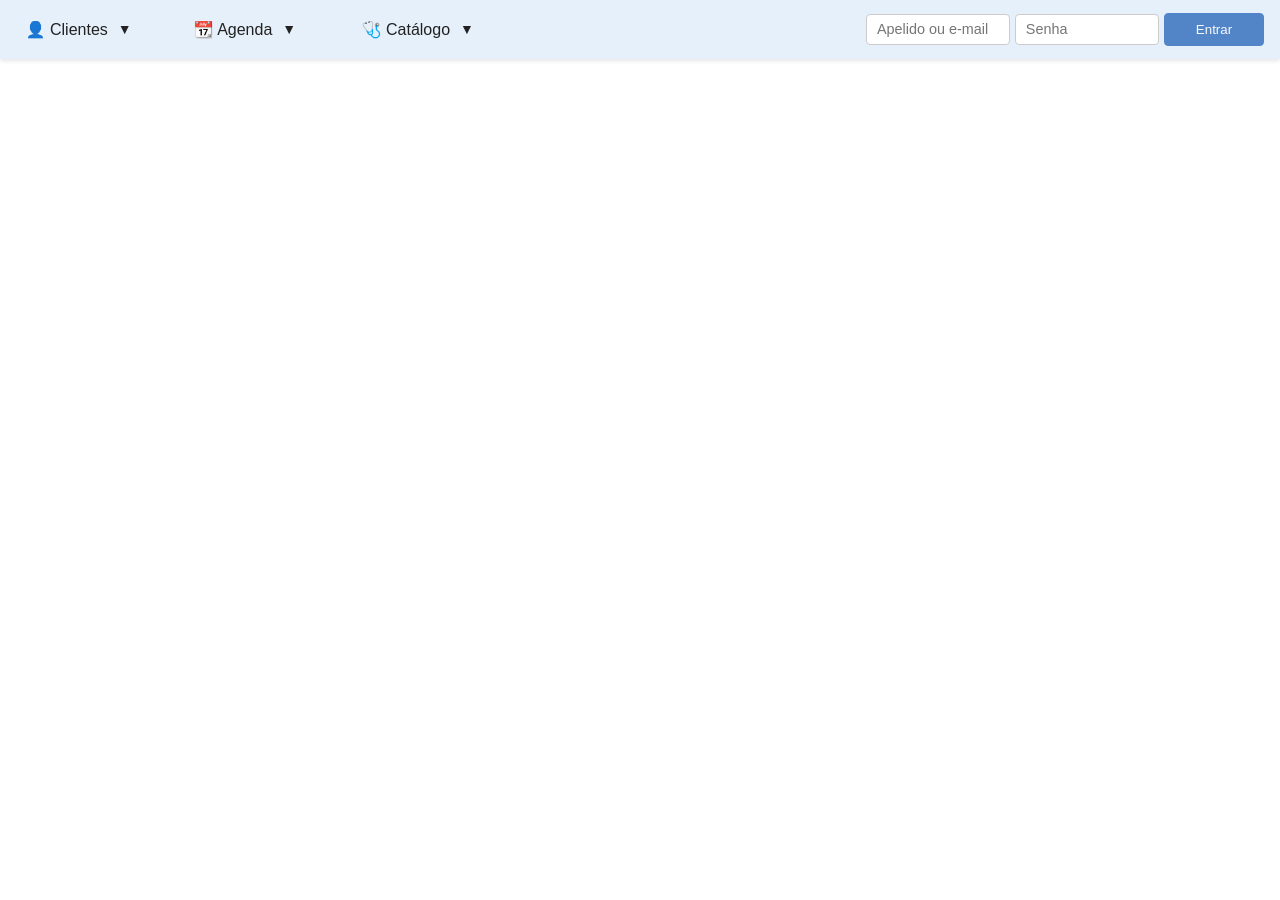
NavBar login code flow › autentica diretamente por apelido ou e-mail
The image size is (1280, 900).
In the field with placeholder "Apelido ou e-mail": point(938, 29) x1=866 y1=14 x2=1010 y2=45, type "pro1@example.com"
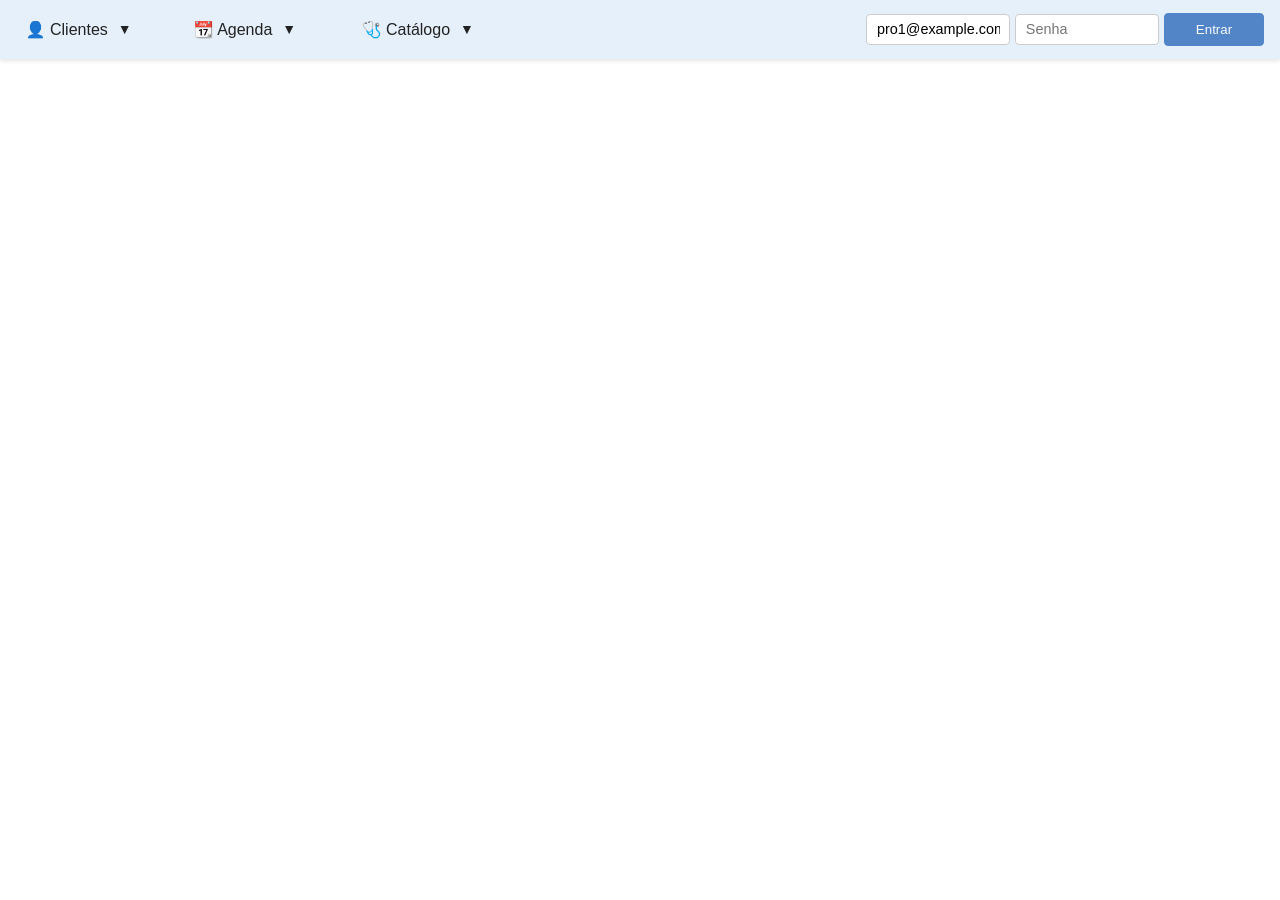
In the password field with placeholder "Senha": point(1087, 29) x1=1015 y1=14 x2=1159 y2=45, type "Senha123"
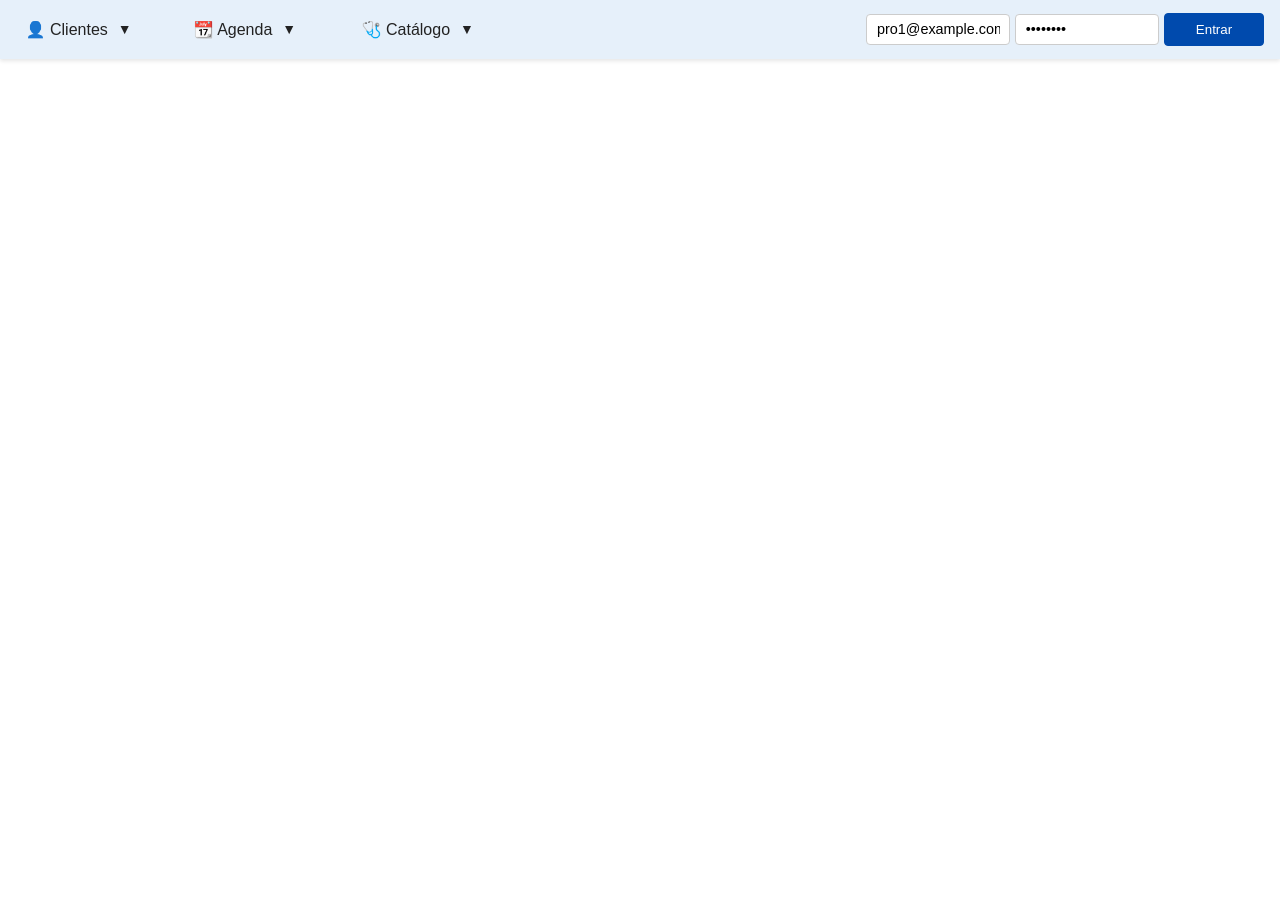
Check: the button "Entrar" is enabled
Click the button "Entrar": point(1214, 29) x1=1164 y1=13 x2=1264 y2=46
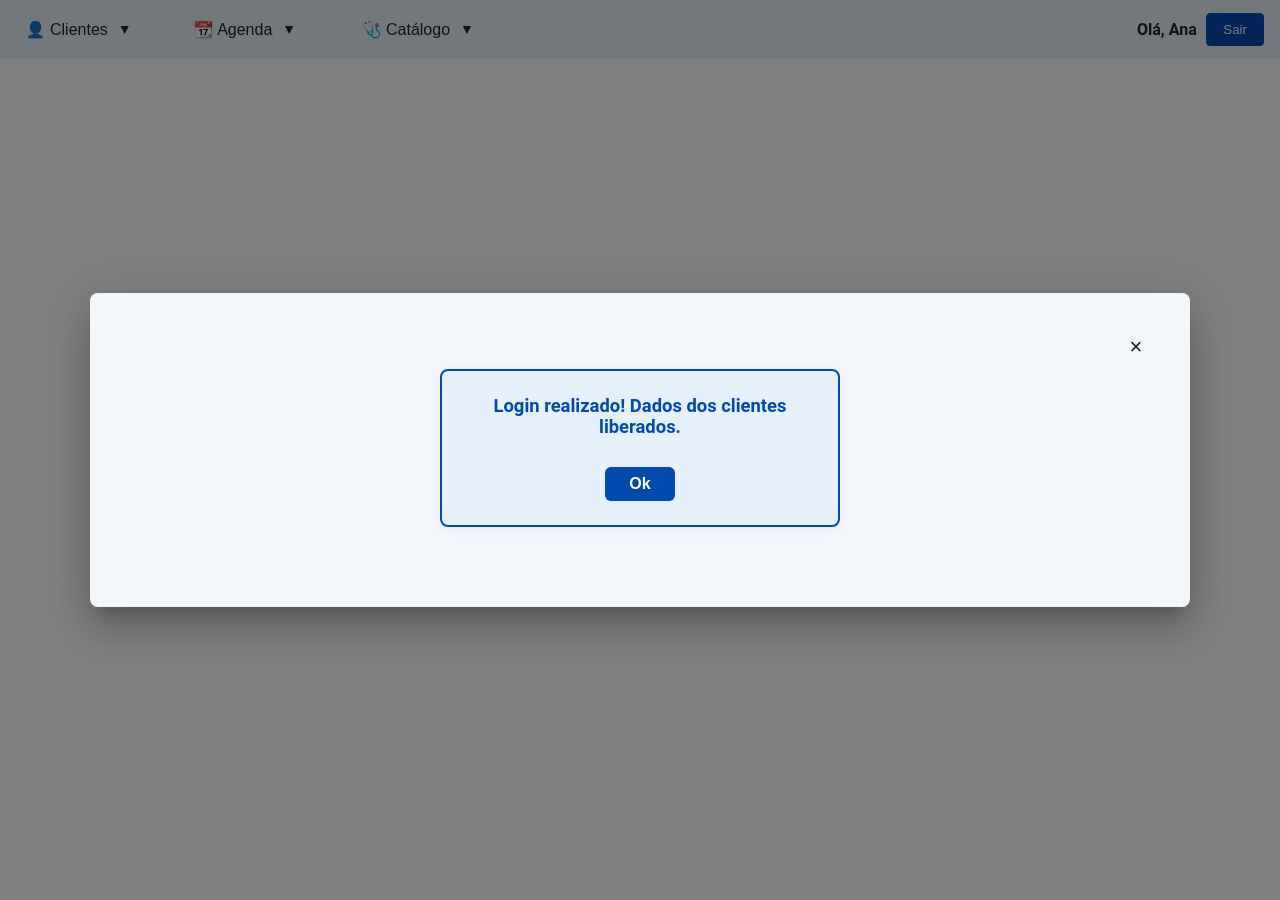
Check: the button "Sair" is shown, box x1=1206 y1=13 x2=1264 y2=46
